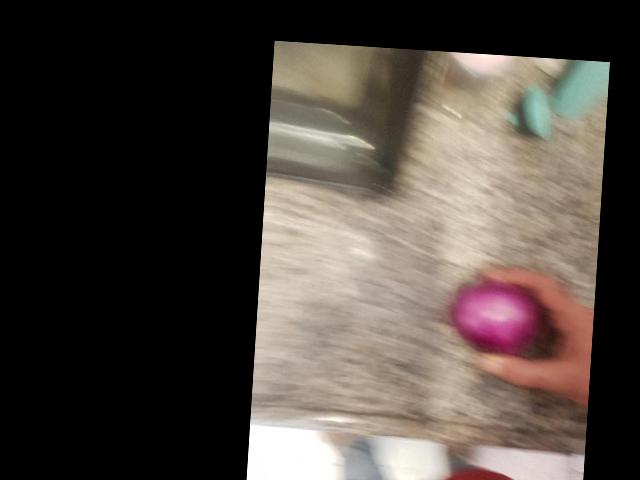onion: (293, 231, 372, 324)
